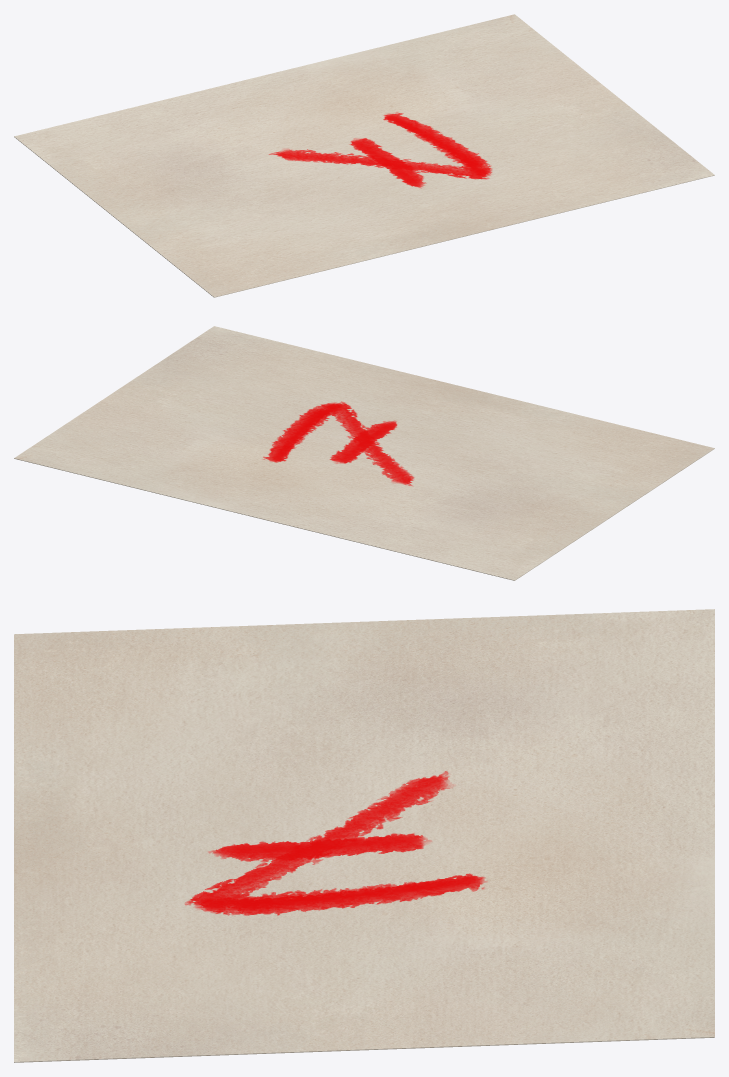
File: red7.fbx
The picture shows the model from 3 angles, top to bottom: view 1: azimuth 30°, elevation 25°; view 2: azimuth 150°, elevation 25°; view 3: azimuth 270°, elevation 25°; orthographic projection. The views are drawn at different scales.
Parts seen in each view (by area): view 1: Plane_001; view 2: Plane_001; view 3: Plane_001.
Boxes of the visible parts, x1,y1,x2,y2 form: Plane_001: (14, 14, 714, 297); Plane_001: (14, 326, 714, 580); Plane_001: (14, 609, 714, 1062).
Size of the model in its own units: 432 by 12.18 by 299.
Materials: 1 (1 with a texture image).
